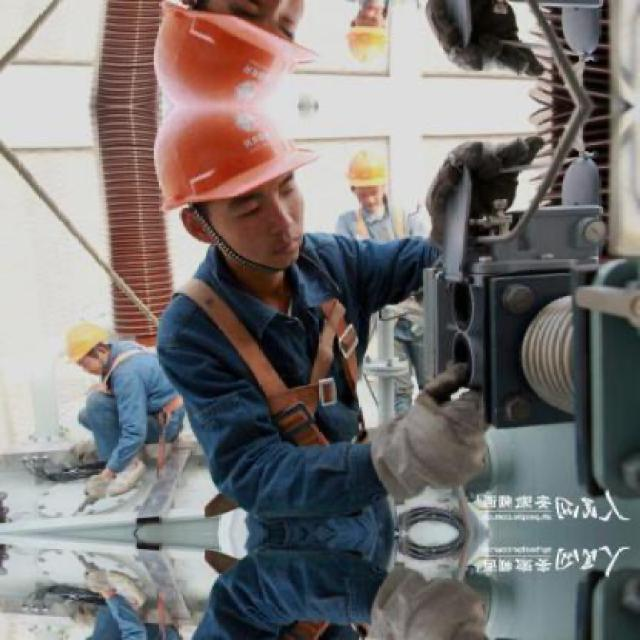con casco: (133, 101, 304, 269), (338, 151, 418, 216), (64, 325, 110, 396)
